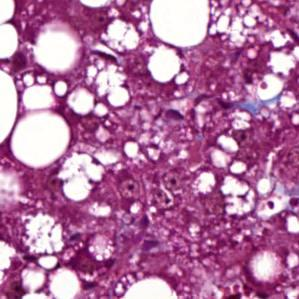steatosis: (13, 108, 76, 173), (146, 39, 185, 87)
